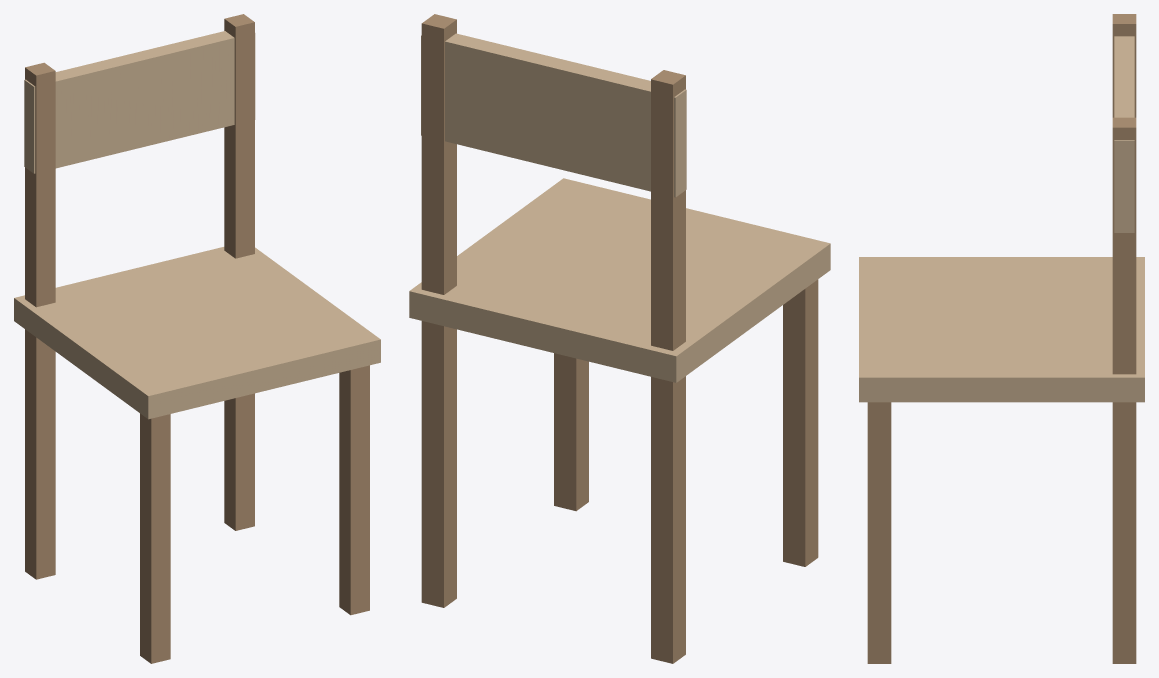
File: dining_chair.glb
The picture shows the model from 3 angles, left to right: view 1: azimuth 30°, elevation 25°; view 2: azimuth 150°, elevation 25°; view 3: azimuth 270°, elevation 25°; orthographic projection. The views are drawn at different scales.
Parts seen in each view (by area): view 1: dining_chair; view 2: dining_chair; view 3: dining_chair.
Boxes of the visible parts, x1,y1,x2,y2 form: dining_chair: (14,14,380,663); dining_chair: (409,14,830,663); dining_chair: (859,14,1144,663).
Bounding box in the file's own units: 0.42 × 0.87 × 0.42.
